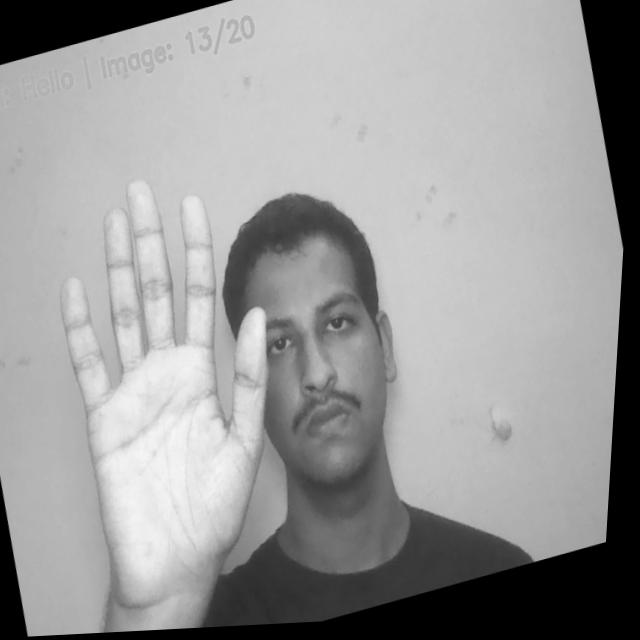Hello: (25, 149, 329, 603)
